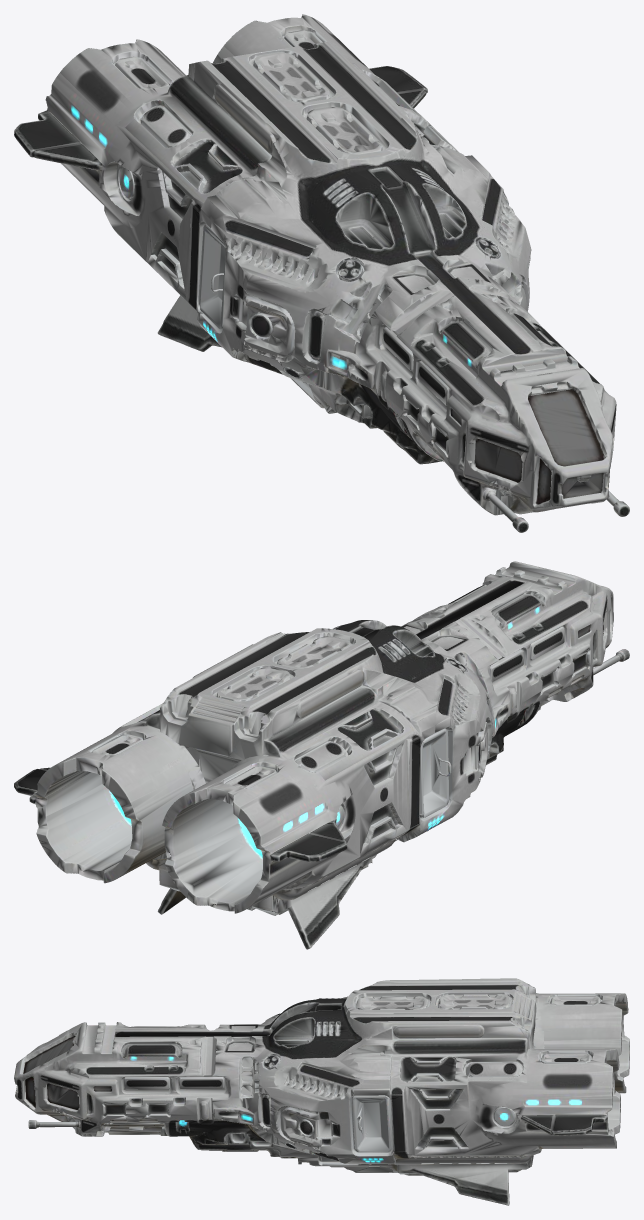
The model's file is silver_hawk.glb.
3 views of the same model, one above another, from view 1: azimuth 30°, elevation 25°; view 2: azimuth 150°, elevation 25°; view 3: azimuth 270°, elevation 25° (orthographic). The views are drawn at different scales.
Parts seen in each view (by area): view 1: Layer_1_Material_0; view 2: Layer_1_Material_0; view 3: Layer_1_Material_0.
Part boxes in pixels (x1,y1,x2,y2): Layer_1_Material_0: (14,14,629,532); Layer_1_Material_0: (14,561,629,949); Layer_1_Material_0: (14,978,629,1205).
Size of the model in its own units: 0.2937 by 0.2021 by 0.62.
Materials: 1 (1 with a texture image).
